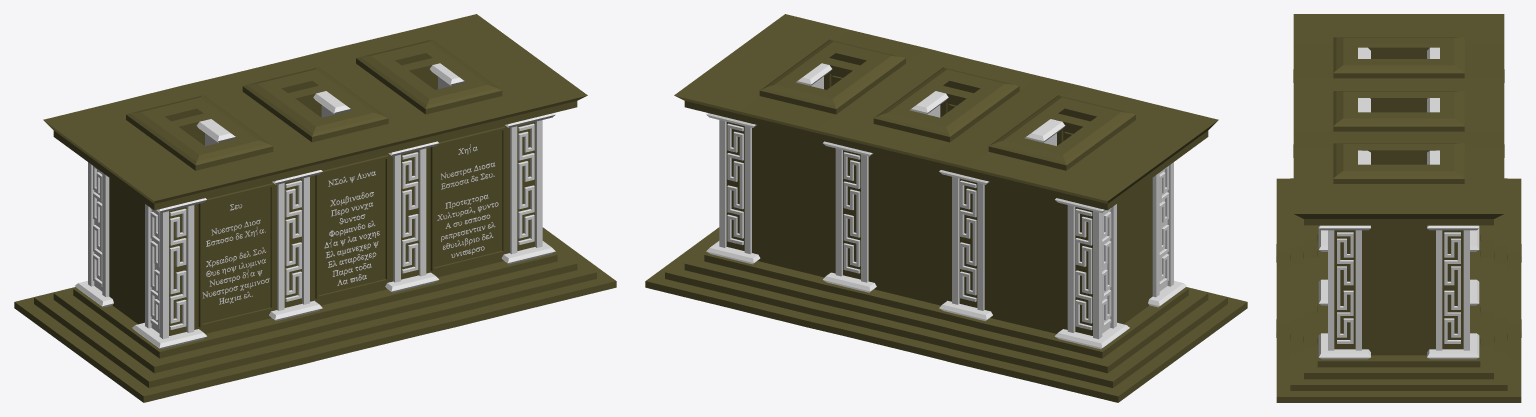
File: Altarsolo.fbx
3 views of the same model, side by side, from view 1: azimuth 30°, elevation 25°; view 2: azimuth 150°, elevation 25°; view 3: azimuth 270°, elevation 25° (orthographic). The views are drawn at different scales.
Parts seen in each view (by area): view 1: Cube.001, Cube.002, Text.001, Text.002, Text; view 2: Cube.001, Cube.002; view 3: Cube.001, Cube.002.
Boxes of the visible parts, box(x1,y1,x2,y2) form: Cube.001: box(14, 14, 616, 402); Cube.002: box(75, 63, 555, 349); Text.001: box(324, 171, 379, 285); Text.002: box(437, 144, 498, 257); Text: box(202, 204, 269, 304); Cube.001: box(645, 14, 1247, 402); Cube.002: box(706, 63, 1186, 349); Cube.001: box(1276, 14, 1521, 402); Cube.002: box(1318, 47, 1479, 359).
Size of the model in its own units: 760 by 307 by 361.
